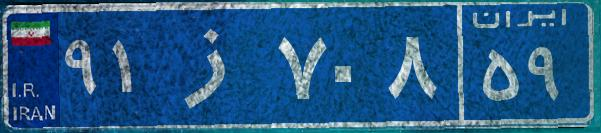0: (330, 28, 385, 110)
1: (110, 28, 158, 105)
5: (475, 38, 525, 113)
7: (273, 28, 330, 110)
8: (385, 28, 445, 110)
9: (57, 26, 110, 107), (525, 38, 570, 115)
ز: (158, 15, 273, 115)
